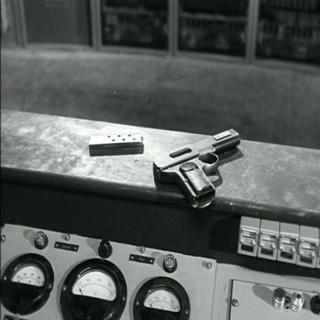gun: (151, 126, 241, 208)
